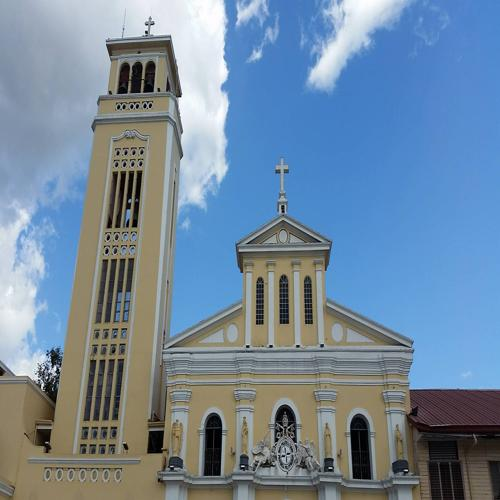Manaoag Church: (66, 10, 418, 500)
